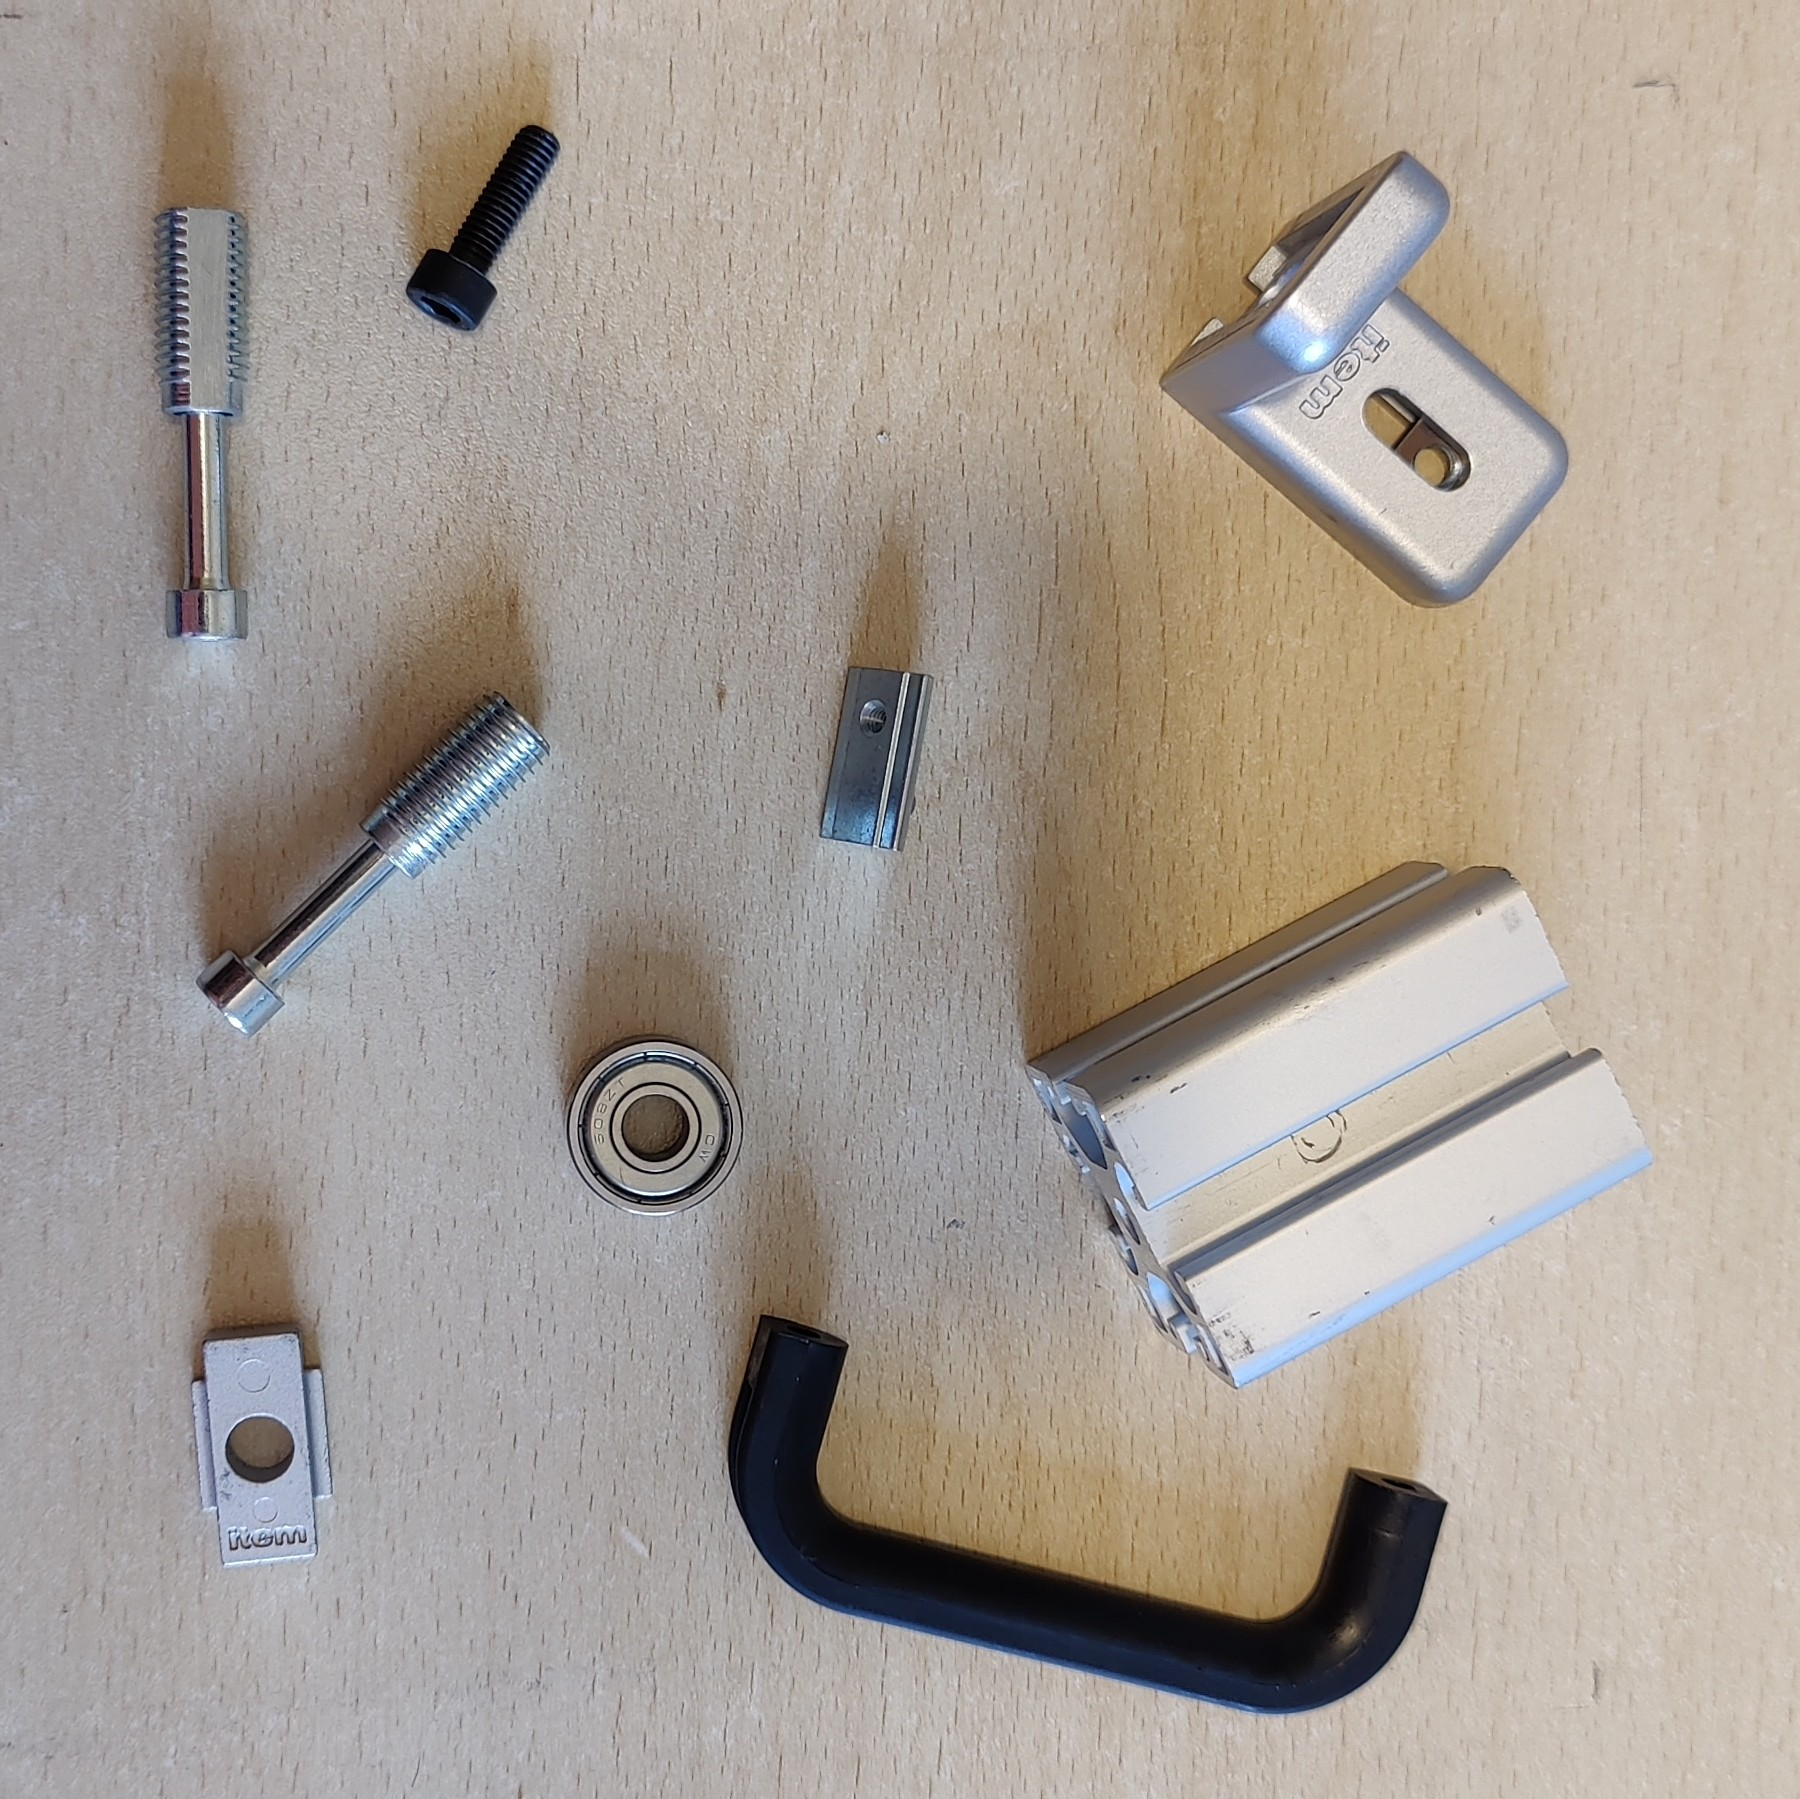Aluminium Extension: (1021, 858, 1655, 1392)
Ball Bearing: (567, 1030, 746, 1219)
Multiwinkel: (1154, 145, 1569, 610)
Pull Handle: (726, 1310, 1448, 1717)
Shoulder Socket Head Cap Screw: (198, 685, 553, 1040), (148, 203, 254, 642)
Socket Head Cap Screw: (405, 120, 563, 333)
T Nut Square: (189, 1320, 336, 1573)
T Spring Nut: (817, 664, 935, 857)
